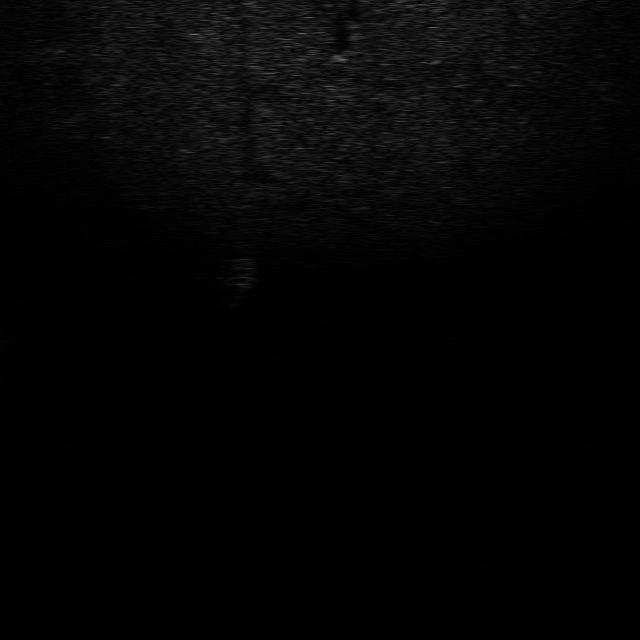human body: (222, 253, 256, 316)
